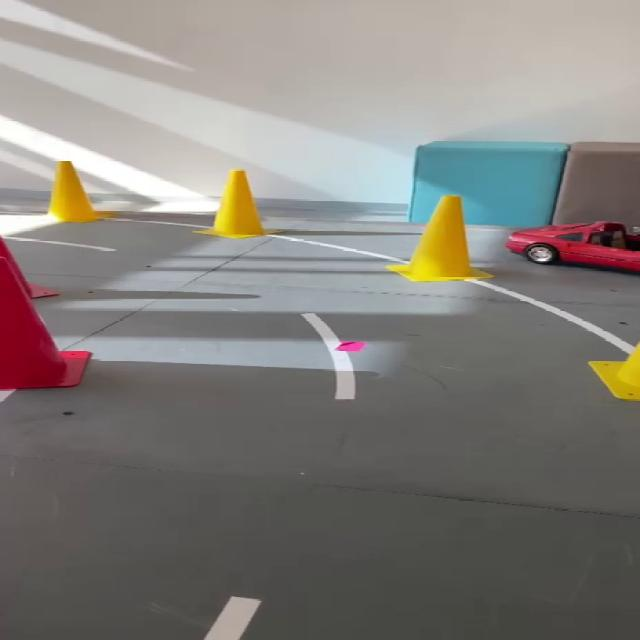Cone-red: (0, 237, 90, 390), (29, 284, 58, 298)
Cones-yellow: (386, 195, 491, 282), (197, 169, 265, 238), (48, 160, 108, 222), (590, 343, 639, 400)
